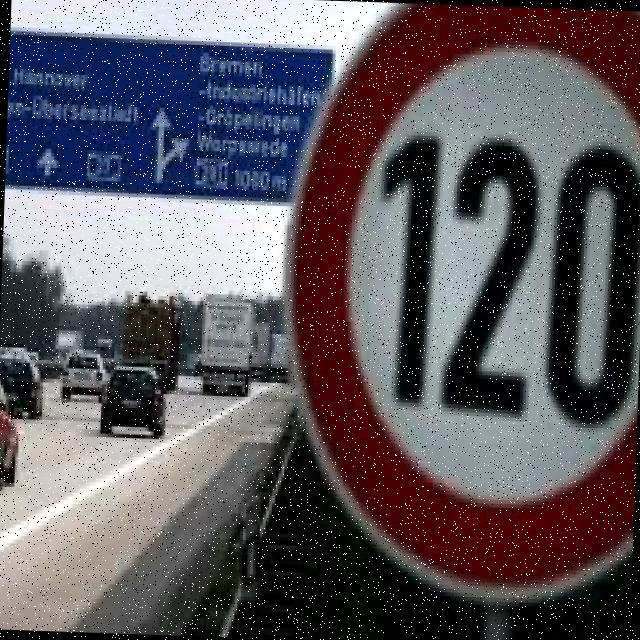speed_limit_120: (265, 0, 640, 613)
